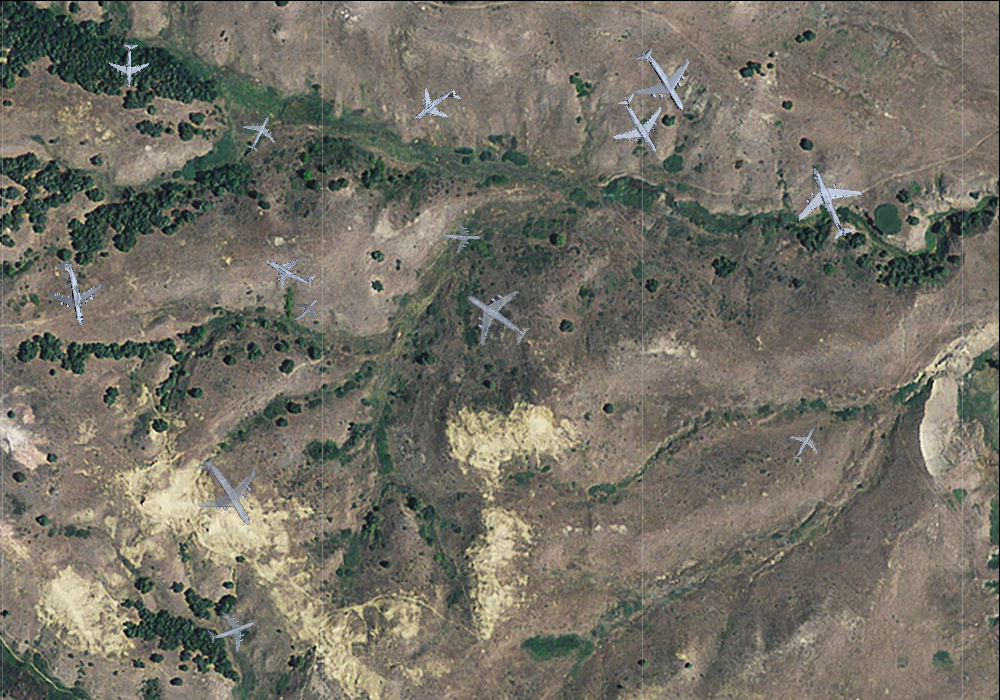plane: (173, 439, 278, 545), (447, 268, 545, 365), (782, 153, 877, 250), (615, 32, 709, 127), (597, 81, 682, 167), (37, 256, 108, 330), (402, 72, 469, 138), (257, 239, 322, 302), (201, 600, 262, 660), (781, 419, 830, 469), (235, 108, 284, 157), (107, 42, 150, 87), (284, 288, 327, 331), (439, 215, 481, 254)
